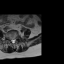CCS_normal: (12, 37, 14, 45)
LFS_normal: (15, 35, 17, 40)
LLS_normal: (14, 37, 15, 44)
RFS_severe_stenosis: (9, 37, 10, 42)
RLS_normal: (10, 37, 12, 44)
